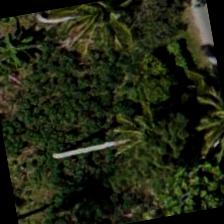Kelapa_Sawit: (96, 84, 201, 188), (54, 0, 154, 67), (174, 78, 223, 176)
